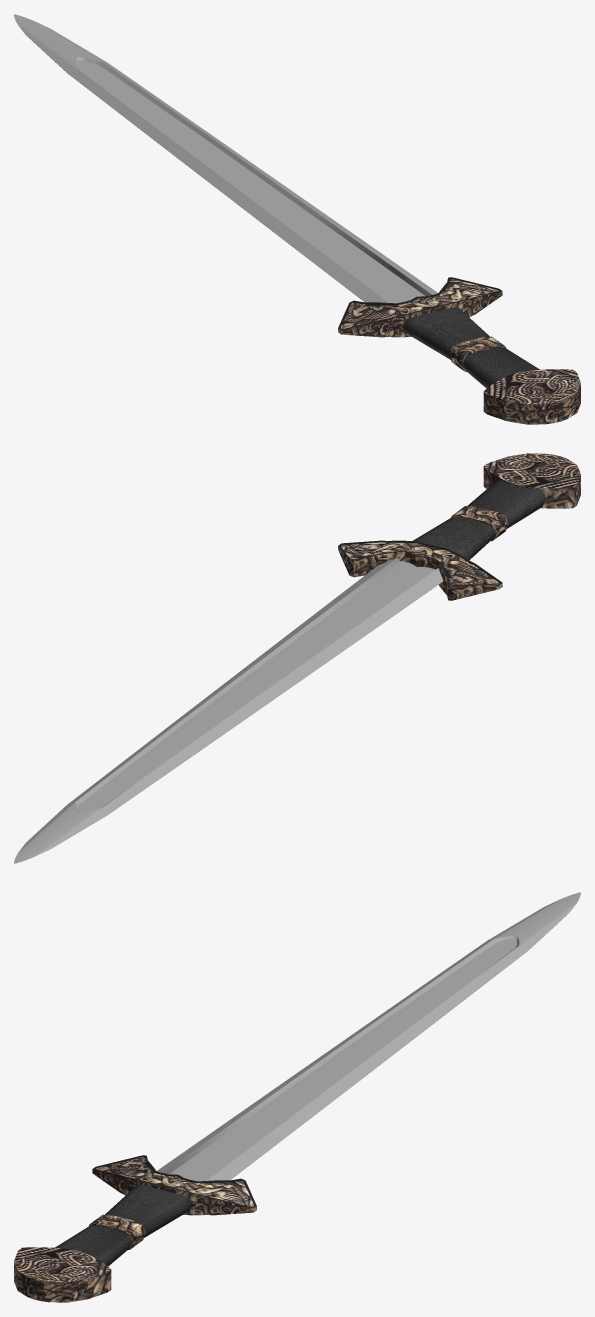
The model's file is BaseSword.fbx.
3 renders of one model, top to bottom at view 1: azimuth 30°, elevation 25°; view 2: azimuth 150°, elevation 25°; view 3: azimuth 330°, elevation 25°, orthographic.
Parts seen in each view (by area): view 1: Plane002; view 2: Plane002; view 3: Plane002.
Part boxes in pixels (<box>): Plane002: <box>14,14,580,424</box>; Plane002: <box>14,453,580,863</box>; Plane002: <box>14,892,580,1302</box>.
Size of the model in its own units: 11.91 by 1.73 by 69.5.
1 material, 1 textured.
